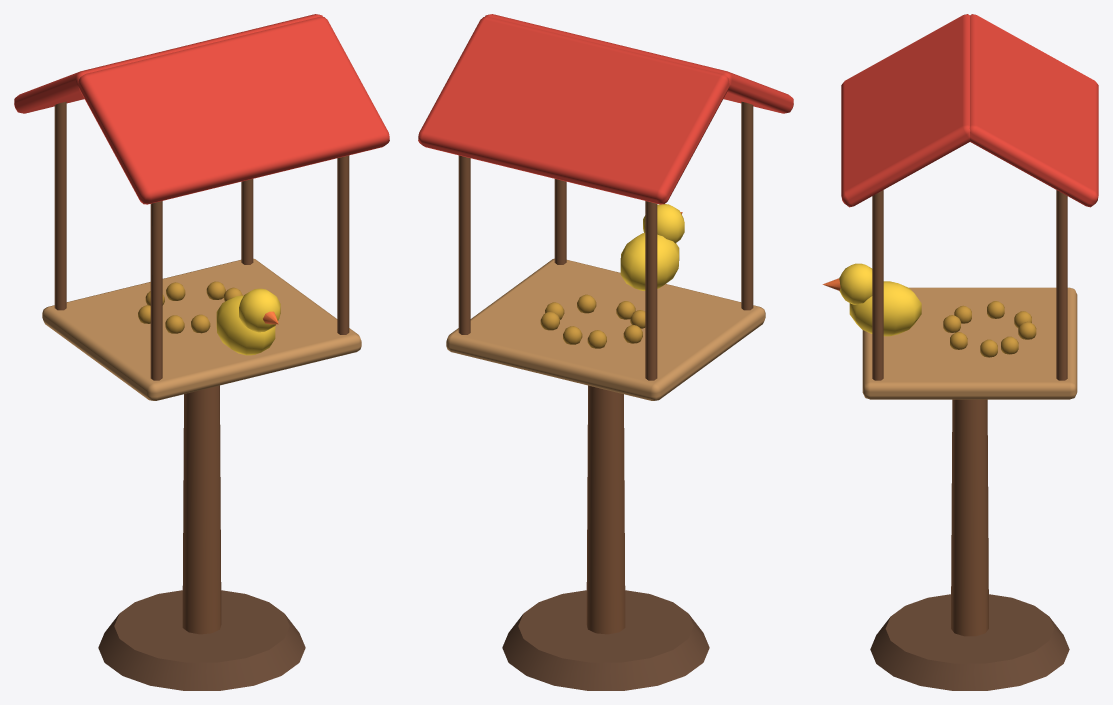
The model's file is birdbath-feeder.glb.
3 renders of one model, left to right at view 1: azimuth 30°, elevation 25°; view 2: azimuth 150°, elevation 25°; view 3: azimuth 270°, elevation 25°, orthographic. The views are drawn at different scales.
Size of the model in its own units: 0.72 by 1.67 by 0.7205.
